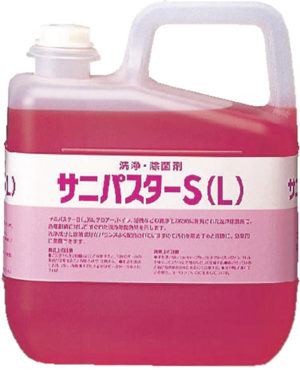Cleaning_solution: (3, 1, 300, 370)
